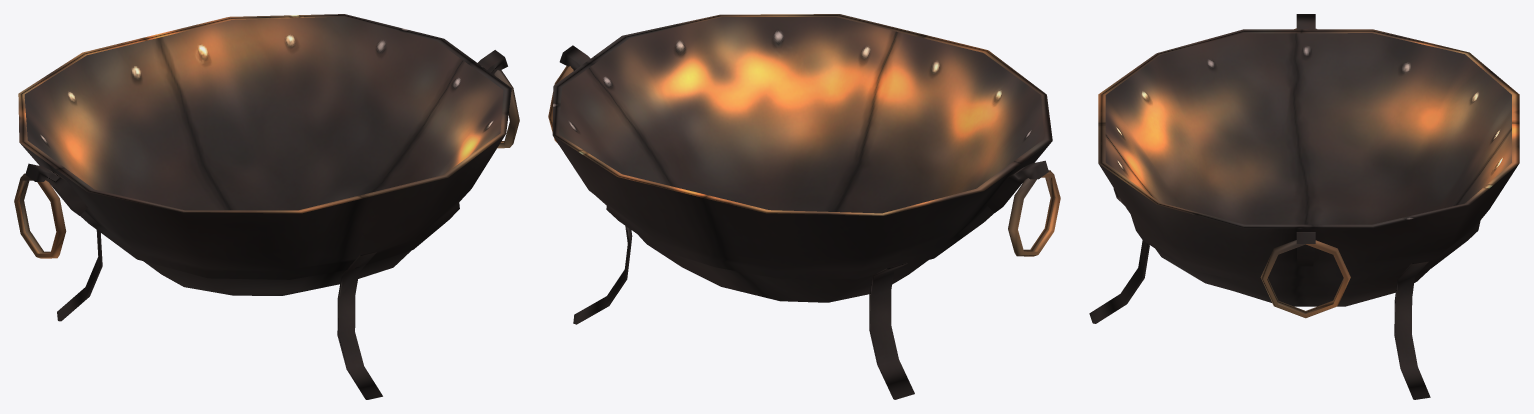
The model's file is firePit.fbx.
The picture shows the model from 3 angles, left to right: view 1: azimuth 30°, elevation 25°; view 2: azimuth 150°, elevation 25°; view 3: azimuth 270°, elevation 25°; orthographic projection. The views are drawn at different scales.
Visible parts, largest first — view 1: brazier_GEO; view 2: brazier_GEO; view 3: brazier_GEO.
Boxes of the visible parts, left/top/right/bottom form: brazier_GEO: left=14, top=14, right=519, bottom=399; brazier_GEO: left=548, top=14, right=1060, bottom=399; brazier_GEO: left=1089, top=14, right=1519, bottom=399.
Bounding box in the file's own units: 90.69 × 38.35 × 74.47.
